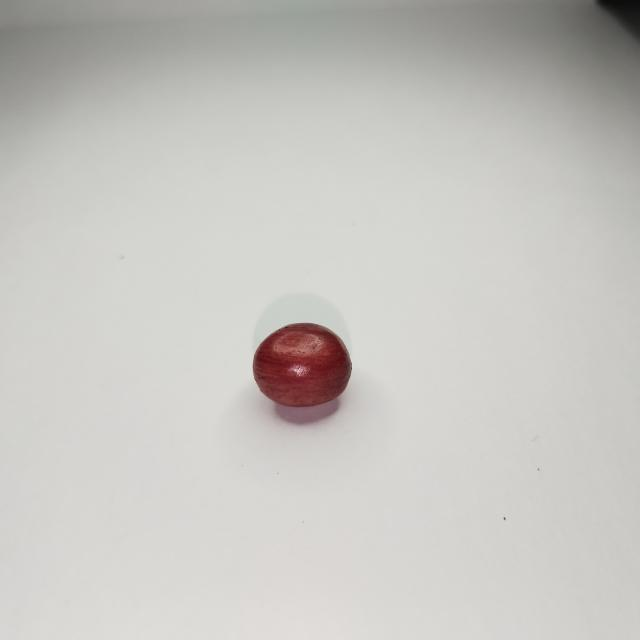Sano: (253, 323, 351, 421)
